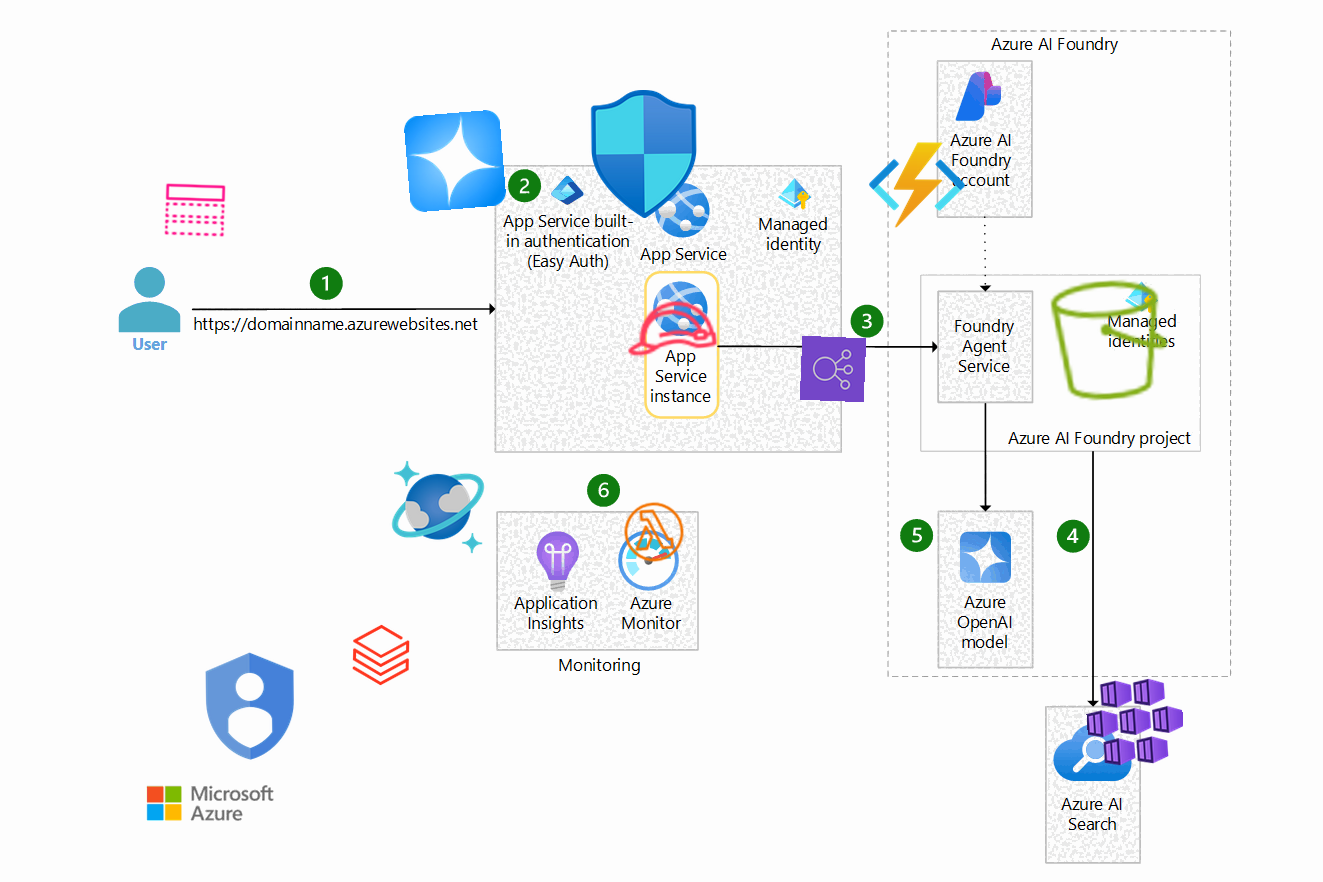aws_elastic_load_balancing: (799, 335, 867, 403)
aws_identity_access_management_role: (619, 276, 723, 380)
aws_lambda_lambda_function: (620, 498, 688, 566)
aws_simple_notification_service_topic: (161, 176, 229, 244)
aws_simple_storage_service_bucket: (1041, 271, 1179, 409)
azure_cosmos_db: (388, 457, 488, 557)
azure_databricks: (348, 622, 414, 688)
azure_function_apps: (868, 136, 966, 234)
azure_kubernetes_services: (1083, 669, 1187, 773)
azure_network_security_groups: (579, 89, 709, 219)
azure_openai: (403, 109, 507, 213)
gcp_identity_and_access_management: (185, 641, 315, 771)
